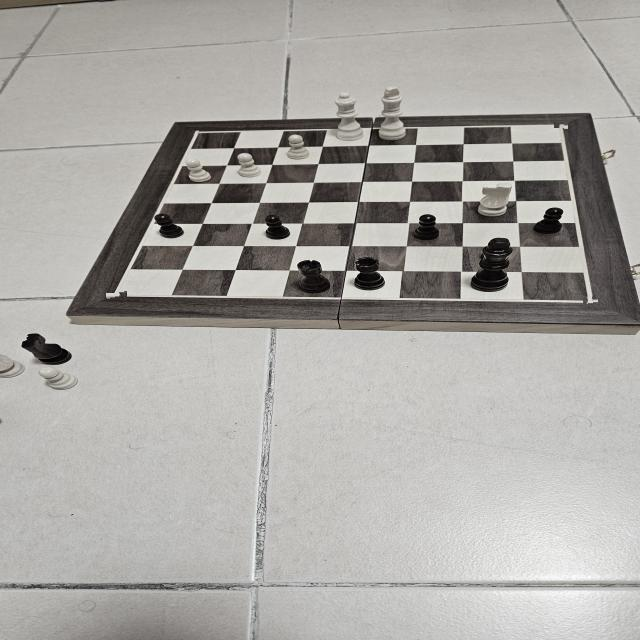chess-table-corners: (106, 292, 127, 300), (582, 296, 598, 306), (554, 122, 568, 128), (192, 130, 204, 136)
